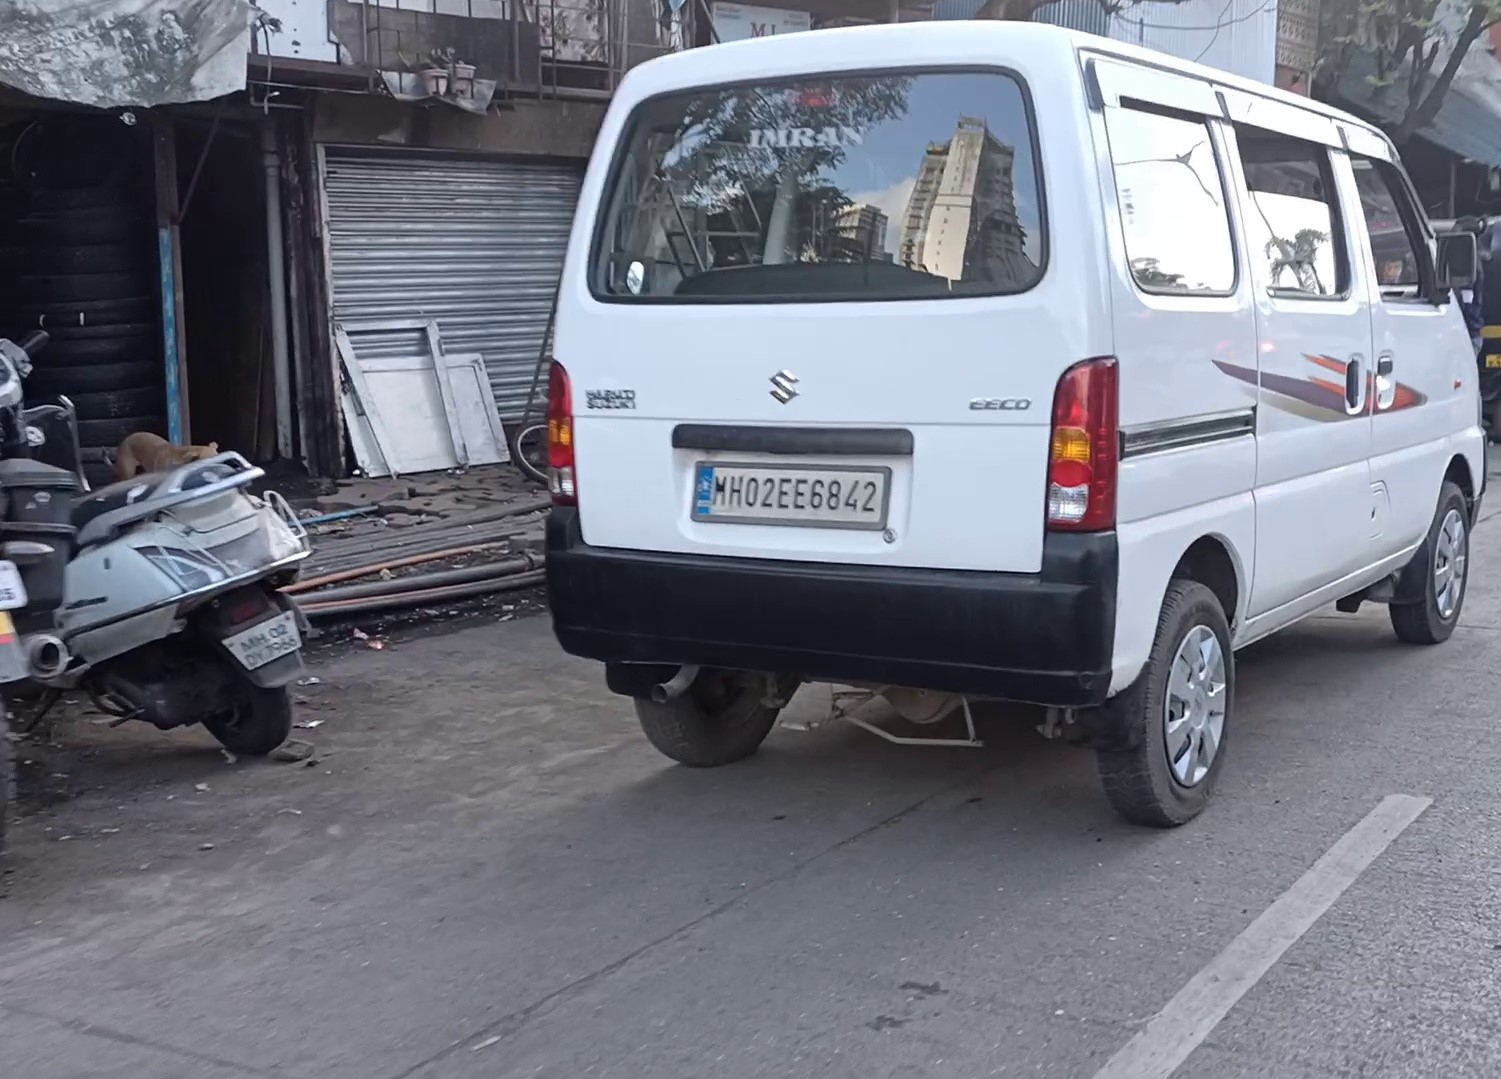MH02EE6842: (693, 461, 889, 525)
